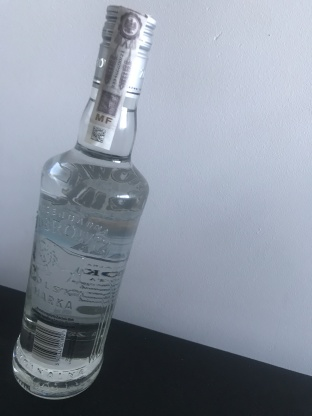nakretka: (90, 1, 158, 101)
